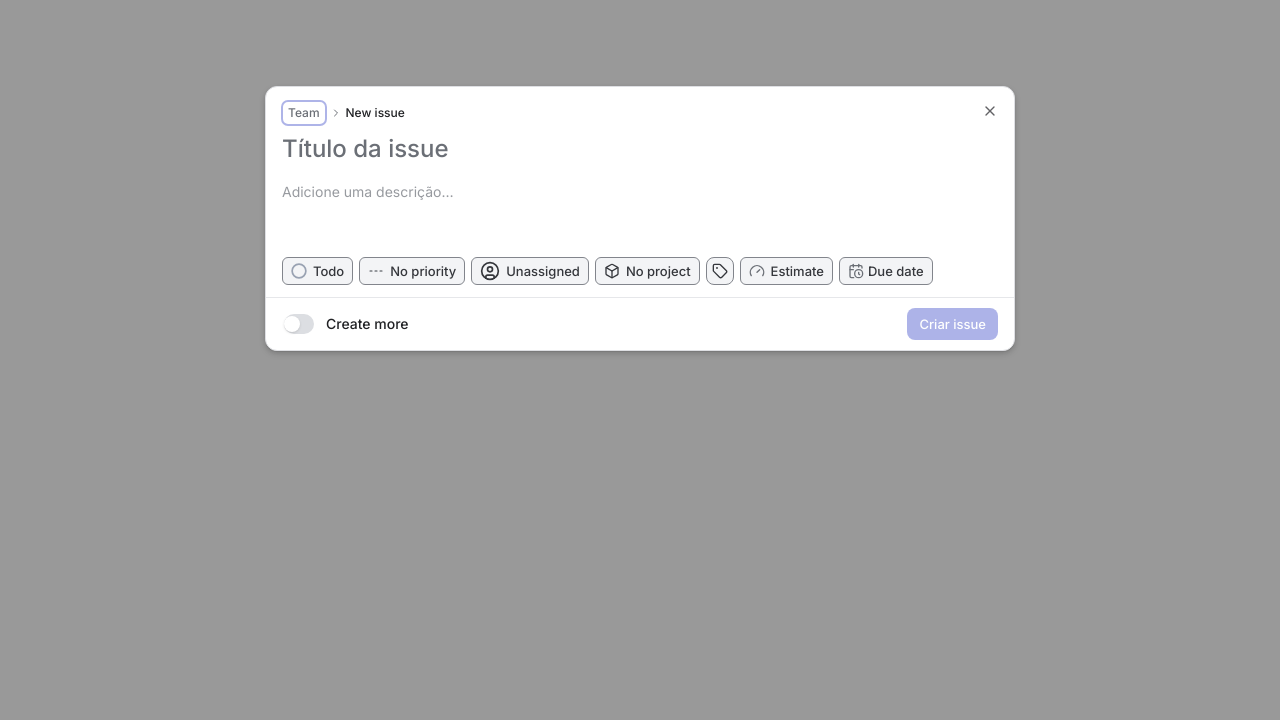
it: modal de criar issue › Is#17 fechar e reabrir preserva o rascunho; o "+" de uma coluna aplica o status
The image size is (1280, 720).
Type "Rascunho" into the field with placeholder "Título da issue" at (640, 149), box x1=282 y1=129 x2=998 y2=169
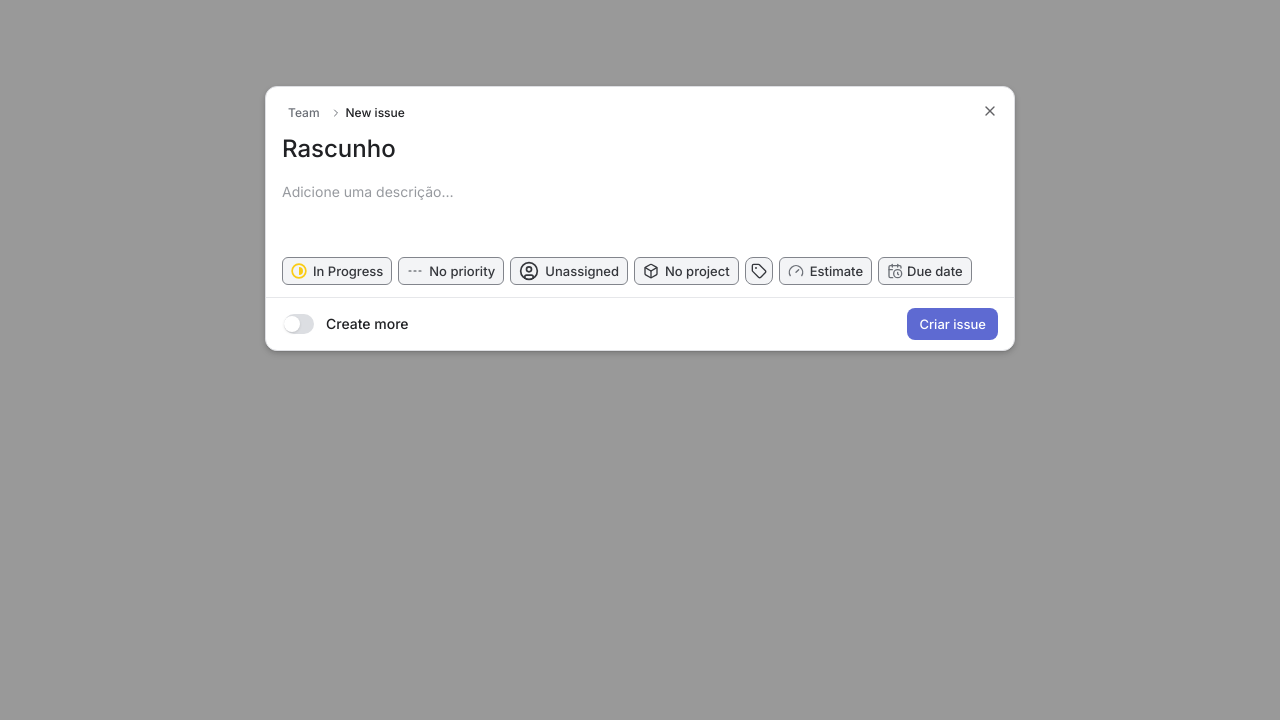
Expected: the dropdown "In Progress" is shown, x1=282 y1=257 x2=392 y2=285
